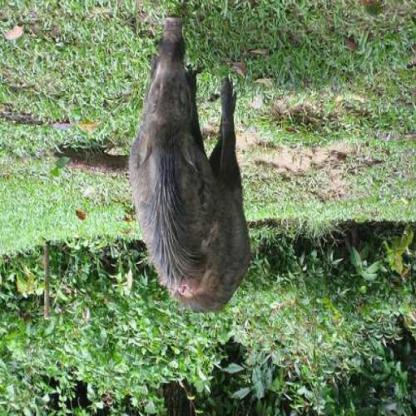boar: (100, 1, 275, 349)
